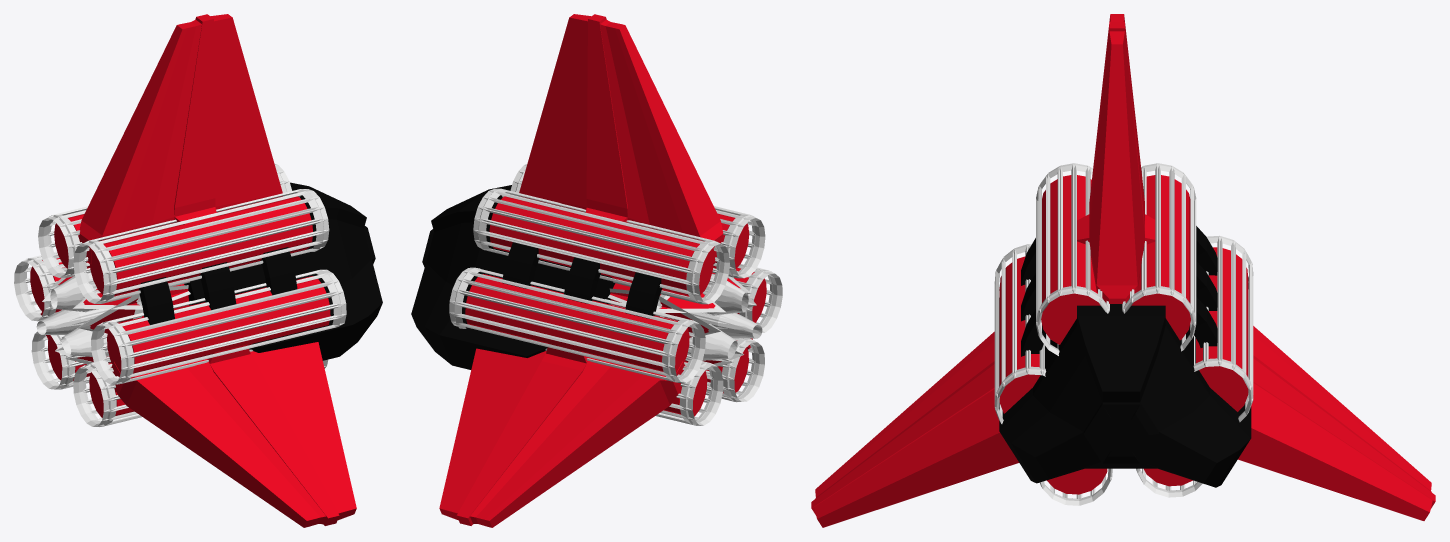
The model's file is tripleSpaceship 1.fbx.
3 views of the same model, side by side, from view 1: azimuth 30°, elevation 25°; view 2: azimuth 150°, elevation 25°; view 3: azimuth 270°, elevation 25° (orthographic). The views are drawn at different scales.
Parts seen in each view (by area): view 1: Cube.001, Cube, Cylinder, Cube.005; view 2: Cube.001, Cube.005, Cylinder, Cube; view 3: Cylinder, Cube.001, Cube.005, Cube.
Part boxes in pixels (left/top/right/bottom): Cube.001: left=38, top=14, right=329, bottom=312; Cube: left=61, top=269, right=356, bottom=527; Cylinder: left=138, top=182, right=382, bottom=360; Cube.005: left=14, top=251, right=109, bottom=389; Cube.001: left=473, top=14, right=765, bottom=315; Cube.005: left=439, top=267, right=737, bottom=527; Cylinder: left=411, top=185, right=662, bottom=369; Cube: left=689, top=263, right=782, bottom=402; Cylinder: left=999, top=226, right=1251, bottom=487; Cube.001: left=1036, top=14, right=1196, bottom=355; Cube.005: left=1136, top=235, right=1435, bottom=520; Cube: left=811, top=244, right=1112, bottom=527.
Bounding box in the file's own units: 1508 × 1944 × 2233.
